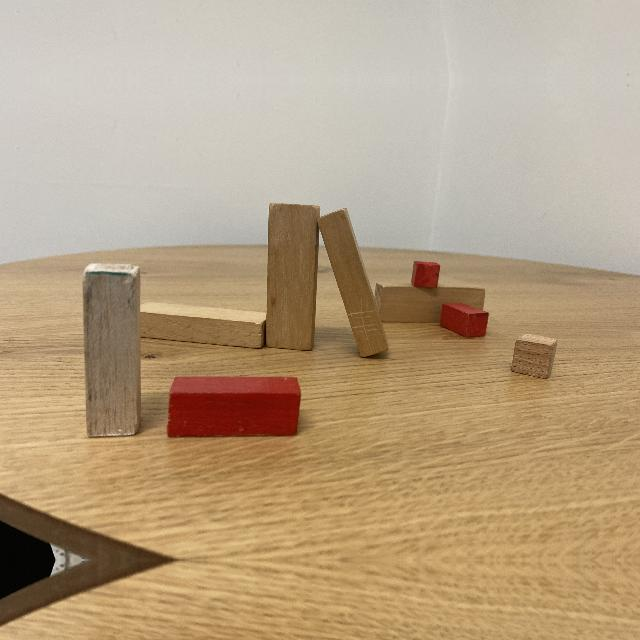block: (82, 264, 143, 440)
cube: (511, 334, 557, 379)
jenga: (317, 208, 389, 359), (267, 203, 320, 351), (141, 301, 267, 349), (374, 283, 485, 323)
red block: (165, 376, 302, 440), (439, 302, 490, 337)
red cube: (411, 261, 441, 288)
